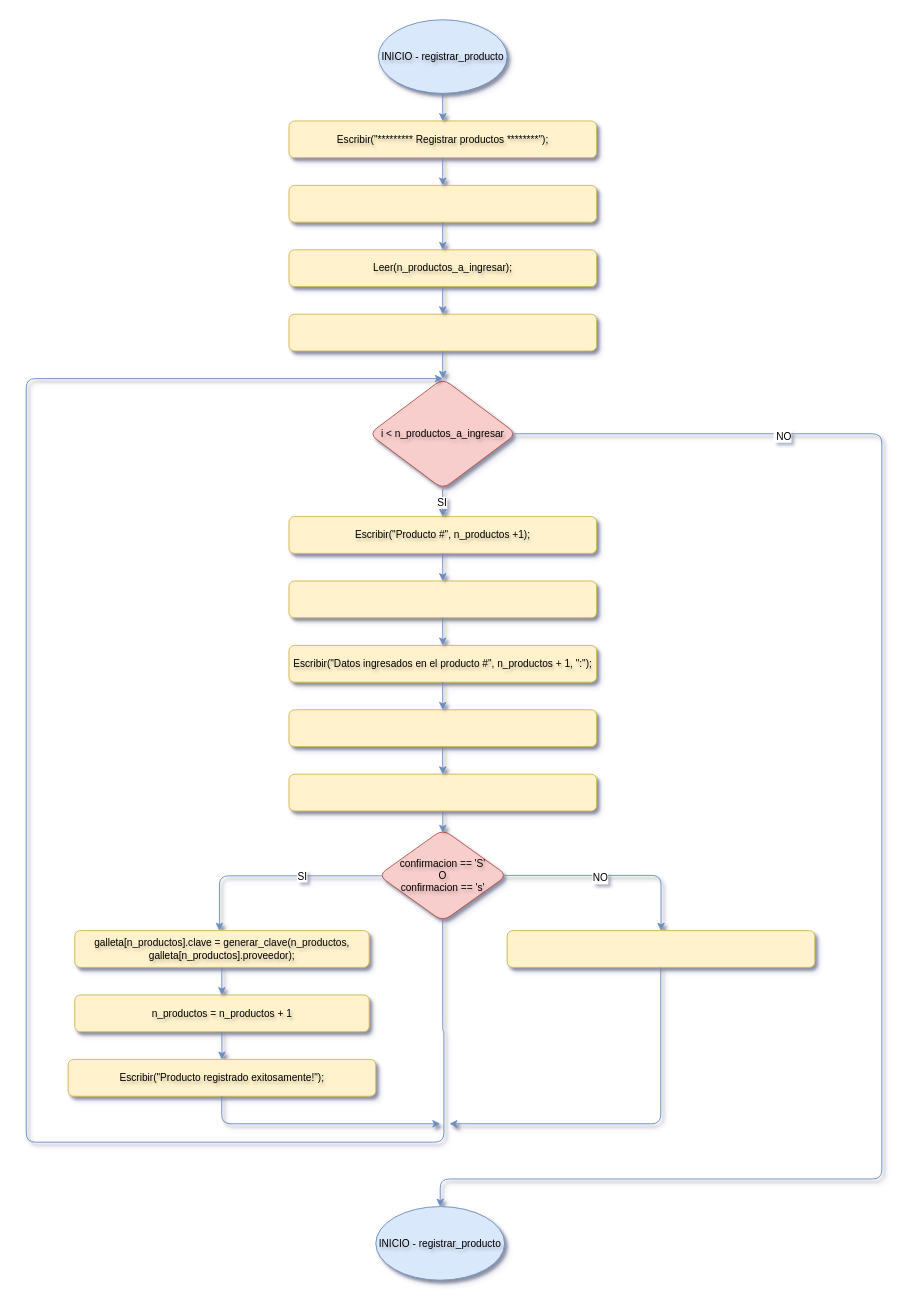
This 916x1308 diagram has some shape labels left out. Each missing label, with the centre of its shape:
Escribir("Confirma si los datos son correctos (S/N): ");: (443,793)
Escribir("Ingrese el numero de productos a registrar: ");: (443,205)
Escribir("Ingrese los datos: ");: (443,333)
Escribir("No se registro el producto");: (661,950)
ingresar_datos(n_productos, galleta);: (443,600)
mostrar_producto(n_productos, galleta);: (443,729)
